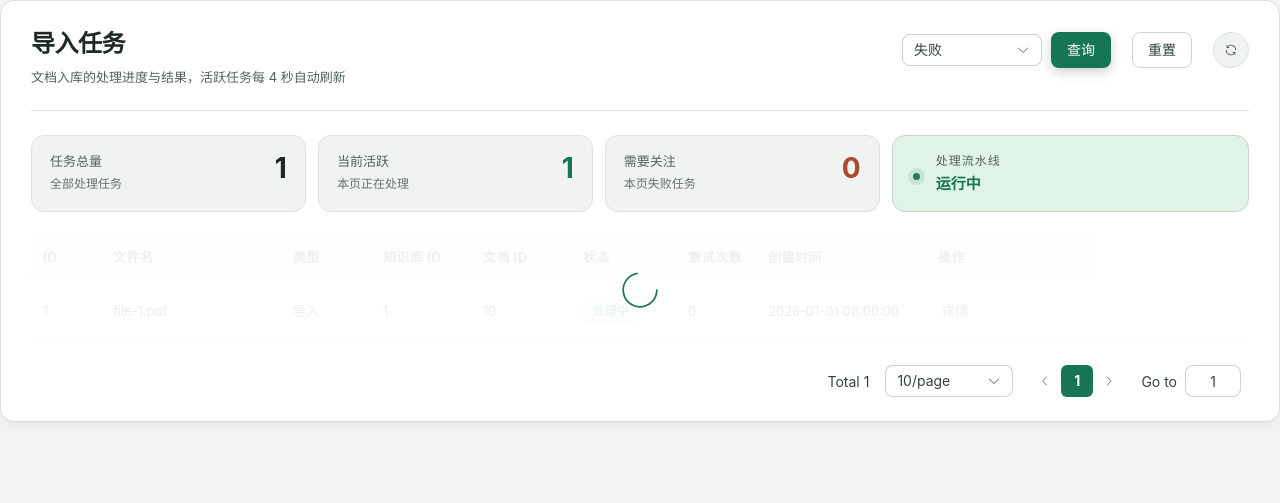
pending-refresh: 阻塞旧轮询 + 用户查询不丢失 › 轮询阻塞期间用户选择 FAILED 并查询，旧请求完成后立即补发 status=FAILED，页面显示新结果
The width and height of the screenshot is (1280, 503).
Click the button "查询" at {"x": 1081, "y": 50}, box 1051,32 -> 1111,68
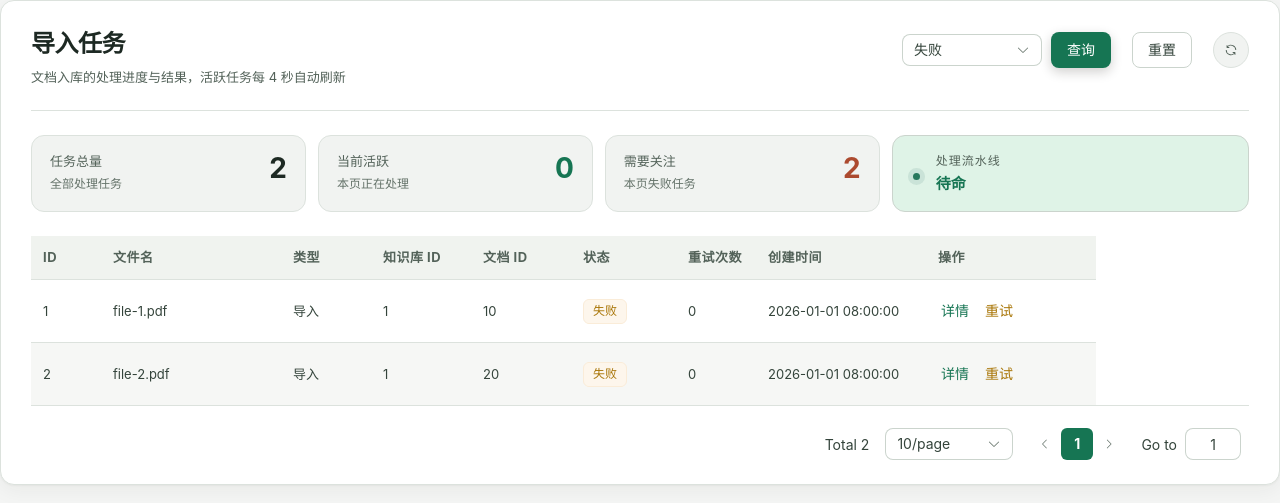
Expected: the text "file-1.pdf" is shown, 113,303 -> 167,319
Expected: the text "file-2.pdf" is shown, 113,366 -> 170,382
